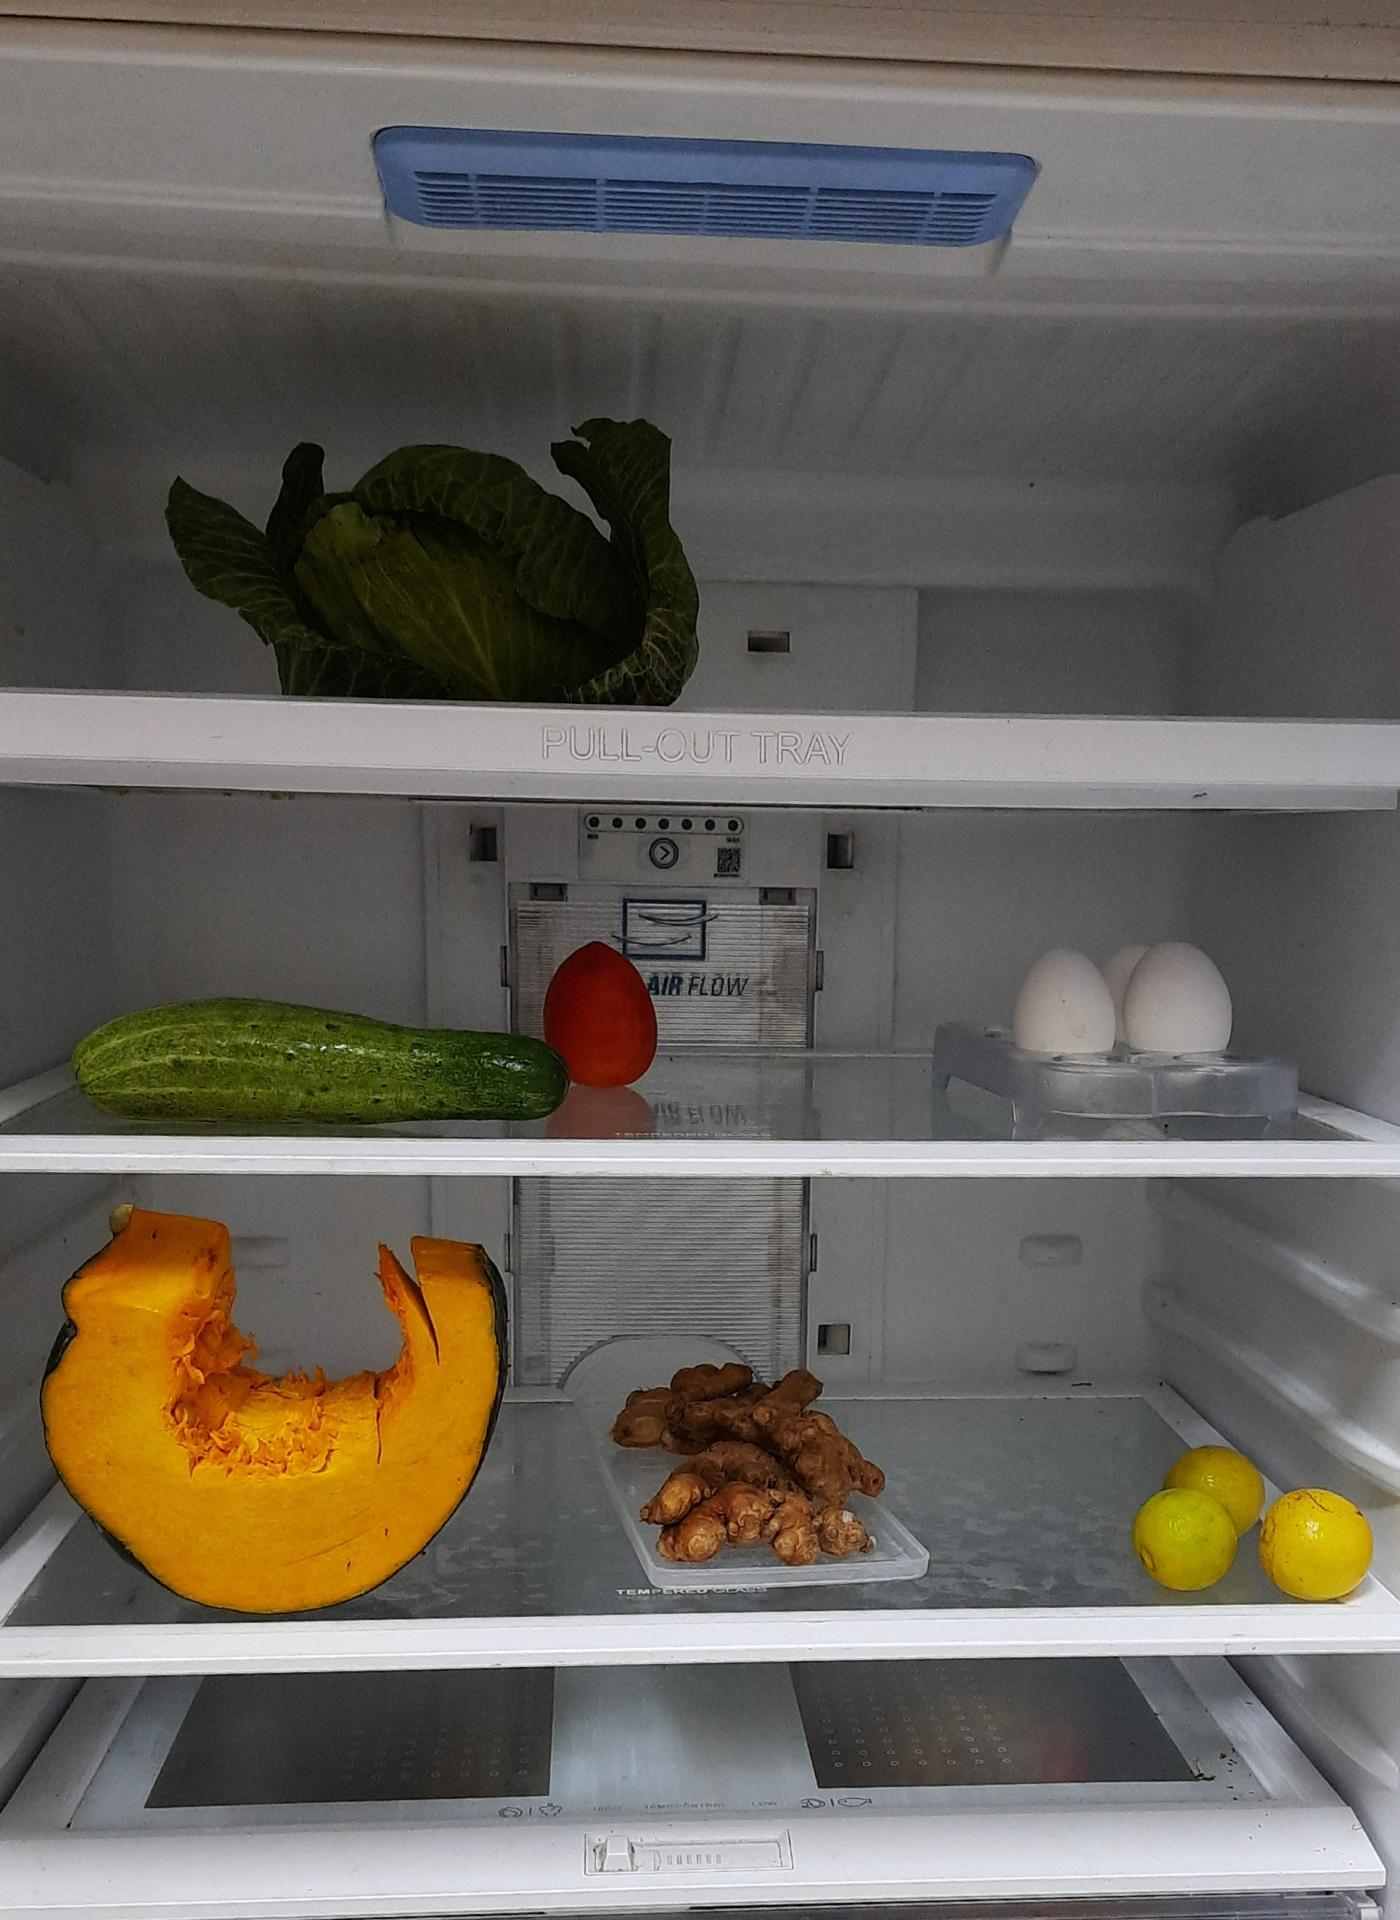cabbage: (160, 401, 719, 704)
cucumber: (63, 990, 578, 1134)
egg: (1020, 936, 1242, 1067)
ginger: (640, 1365, 886, 1568)
lemon: (1129, 1440, 1375, 1595)
pumpkin: (40, 1196, 513, 1602)
tomato: (544, 947, 660, 1093)
